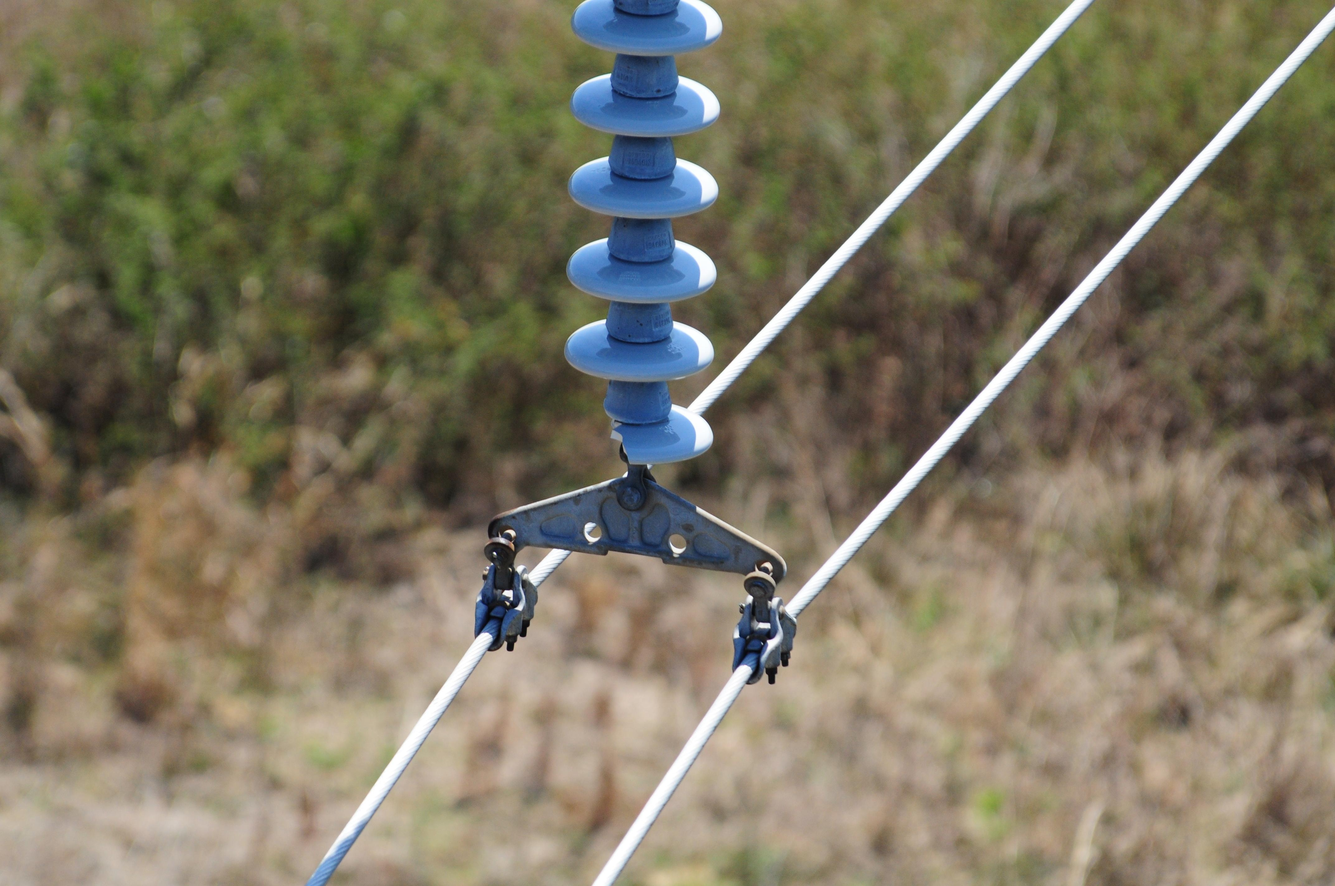damaged: (587, 402, 706, 464)
insulator: (568, 0, 724, 494)
